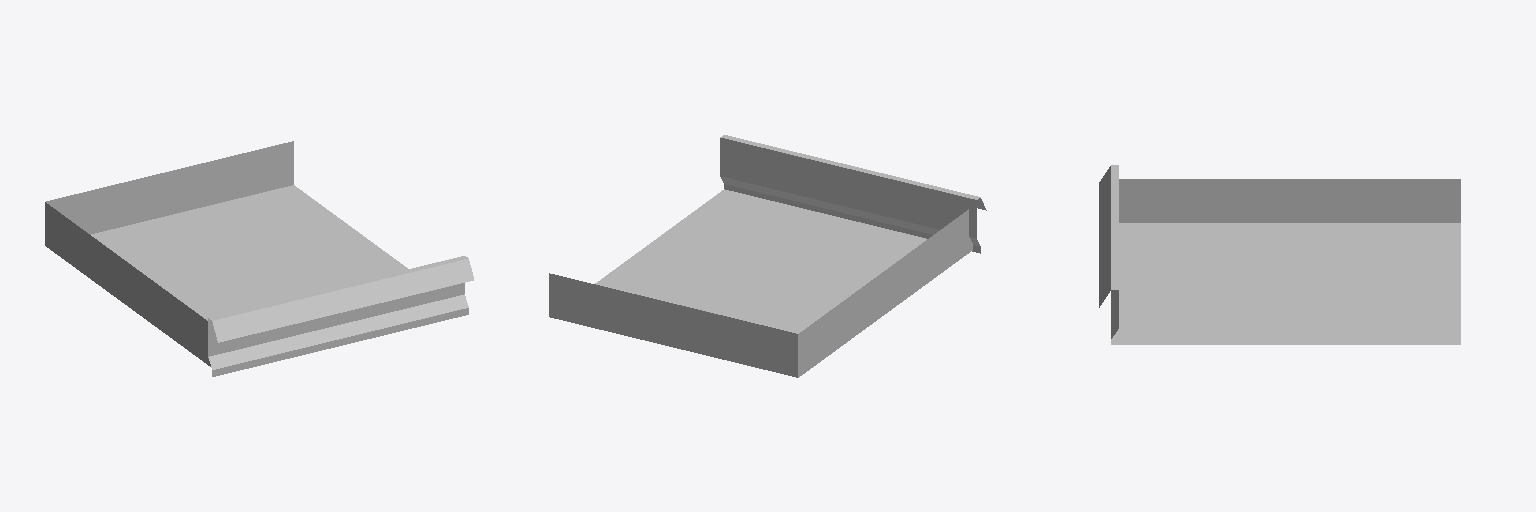
The model's file is original-12.obj.
3 views of the same model, side by side, from view 1: azimuth 30°, elevation 25°; view 2: azimuth 150°, elevation 25°; view 3: azimuth 270°, elevation 25° (orthographic).
Visible parts, largest first — view 1: Component_4_2/Component_4_1_2/mesh14/mesh14-geometry#mesh14-geom; view 2: Component_4_2/Component_4_1_2/mesh14/mesh14-geometry#mesh14-geom; view 3: Component_4_2/Component_4_1_2/mesh14/mesh14-geometry#mesh14-geom.
Part boxes in pixels (left/top/right/bottom): Component_4_2/Component_4_1_2/mesh14/mesh14-geometry#mesh14-geom: left=45, top=141, right=473, bottom=376; Component_4_2/Component_4_1_2/mesh14/mesh14-geometry#mesh14-geom: left=549, top=135, right=986, bottom=377; Component_4_2/Component_4_1_2/mesh14/mesh14-geometry#mesh14-geom: left=1099, top=165, right=1460, bottom=344.
Size of the model in its own units: 0.4189 by 0.0879 by 0.5109.